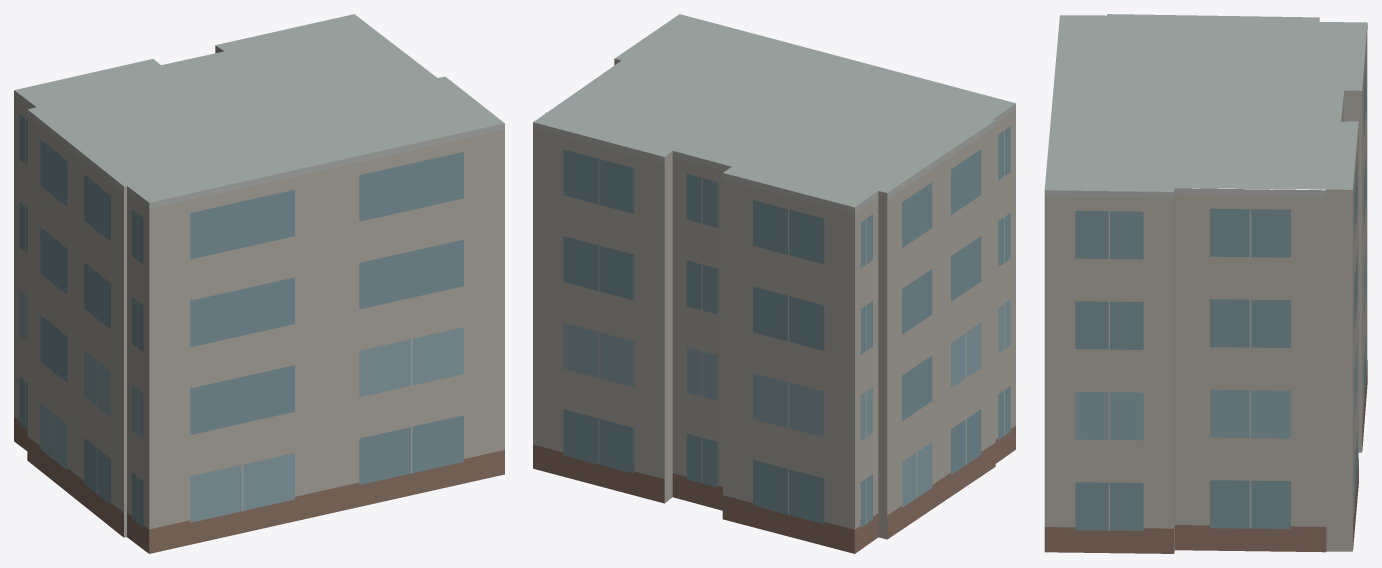
File: survey-upis-32662675.glb
3 views of the same model, side by side, from view 1: azimuth 30°, elevation 25°; view 2: azimuth 150°, elevation 25°; view 3: azimuth 270°, elevation 25° (orthographic). The views are drawn at different scales.
Parts seen in each view (by area): view 1: survey-upis-32662675.tmp; view 2: survey-upis-32662675.tmp; view 3: survey-upis-32662675.tmp.
Part boxes in pixels (x1,y1,x2,y2): survey-upis-32662675.tmp: (14, 14, 504, 553); survey-upis-32662675.tmp: (533, 14, 1015, 553); survey-upis-32662675.tmp: (1044, 14, 1367, 553).
Bounding box in the file's own units: 14.35 × 13.6 × 11.
